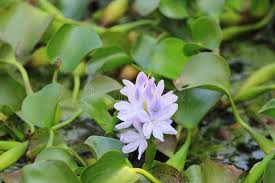water_hyacinth: (0, 0, 275, 182)
